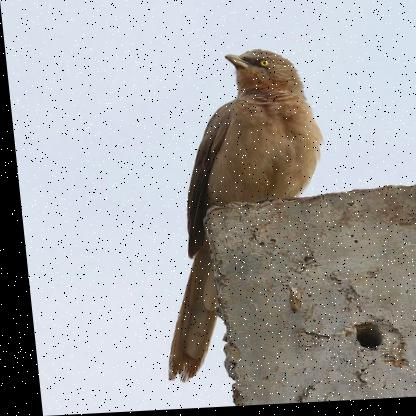Burung: (133, 50, 340, 382)
